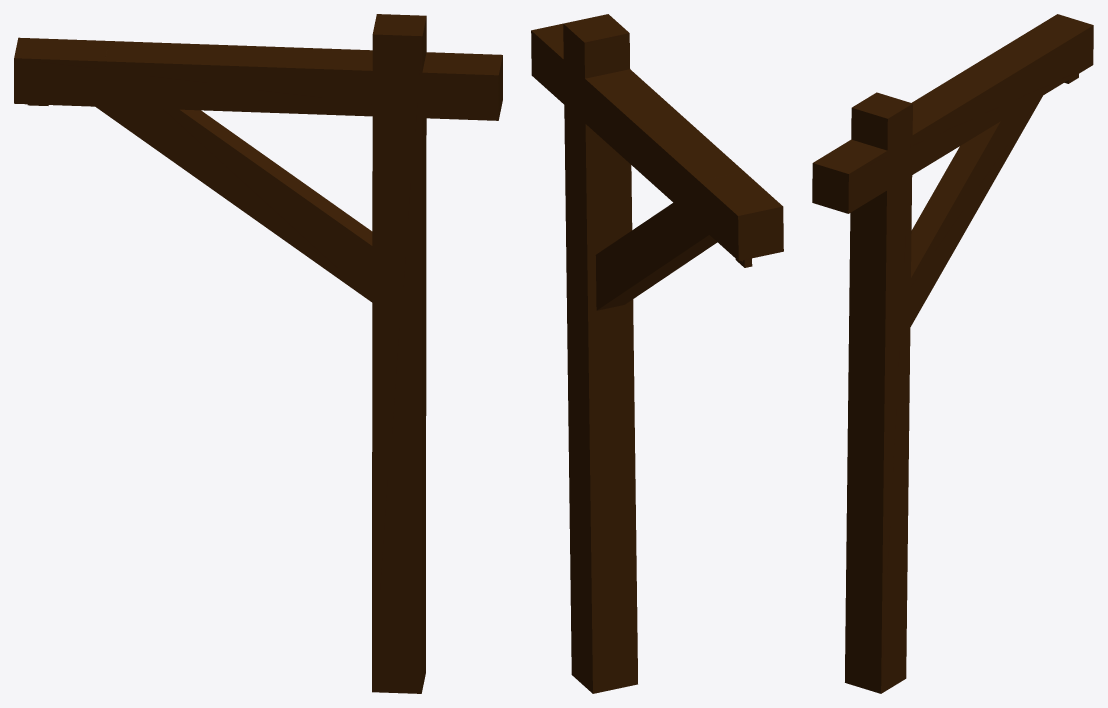
Rendered from Lamppost.fbx.
3 views of the same model, side by side, from view 1: azimuth 30°, elevation 25°; view 2: azimuth 150°, elevation 25°; view 3: azimuth 270°, elevation 25° (orthographic). The views are drawn at different scales.
Parts seen in each view (by area): view 1: node_id13; view 2: node_id13; view 3: node_id13.
Part boxes in pixels (box(x1,y1,x2,y2)): node_id13: box(14, 14, 502, 693); node_id13: box(531, 14, 783, 693); node_id13: box(812, 14, 1093, 693).
Size of the model in its own units: 0.608 by 1.02 by 0.4527.
Materials: 1 (1 with a texture image).
